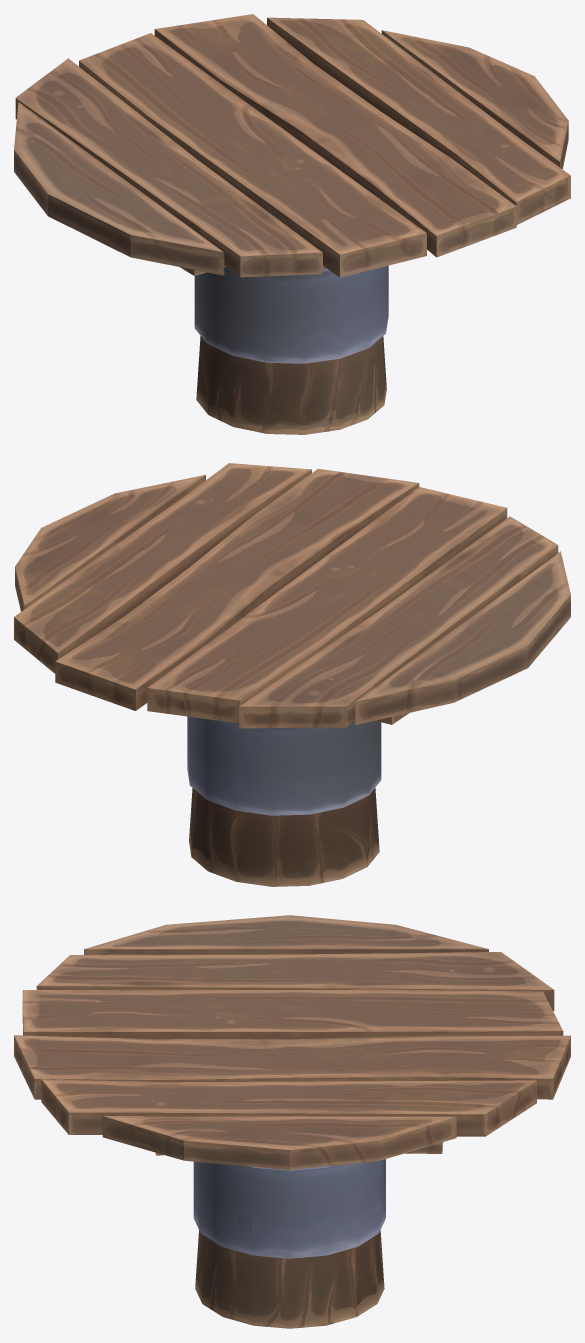
Rendered from SM_Table_02.fbx.
The picture shows the model from 3 angles, top to bottom: view 1: azimuth 30°, elevation 25°; view 2: azimuth 150°, elevation 25°; view 3: azimuth 270°, elevation 25°; orthographic projection.
Parts seen in each view (by area): view 1: SM_Table_02_LOD0; view 2: SM_Table_02_LOD0; view 3: SM_Table_02_LOD0.
Part boxes in pixels (x1,y1,x2,y2): SM_Table_02_LOD0: [14, 14, 570, 434]; SM_Table_02_LOD0: [14, 463, 570, 886]; SM_Table_02_LOD0: [14, 915, 570, 1328].
Size of the model in its own units: 196 by 197 by 100.
Materials: 1 (1 with a texture image).
